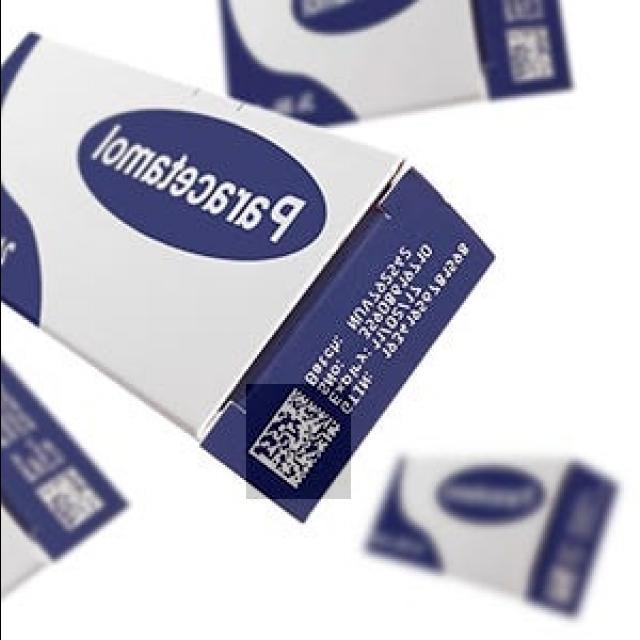Data-Matrix: (245, 384, 350, 499)
